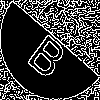B: (25, 25, 75, 81)
